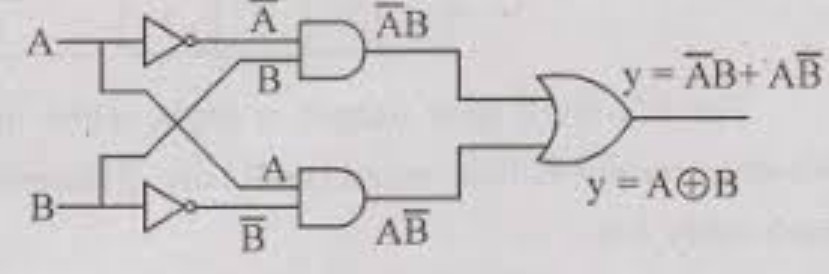and gate: (296, 162, 380, 239), (293, 17, 377, 83)
not gate: (140, 11, 202, 74), (141, 177, 201, 241)
or gate: (530, 71, 640, 167)
